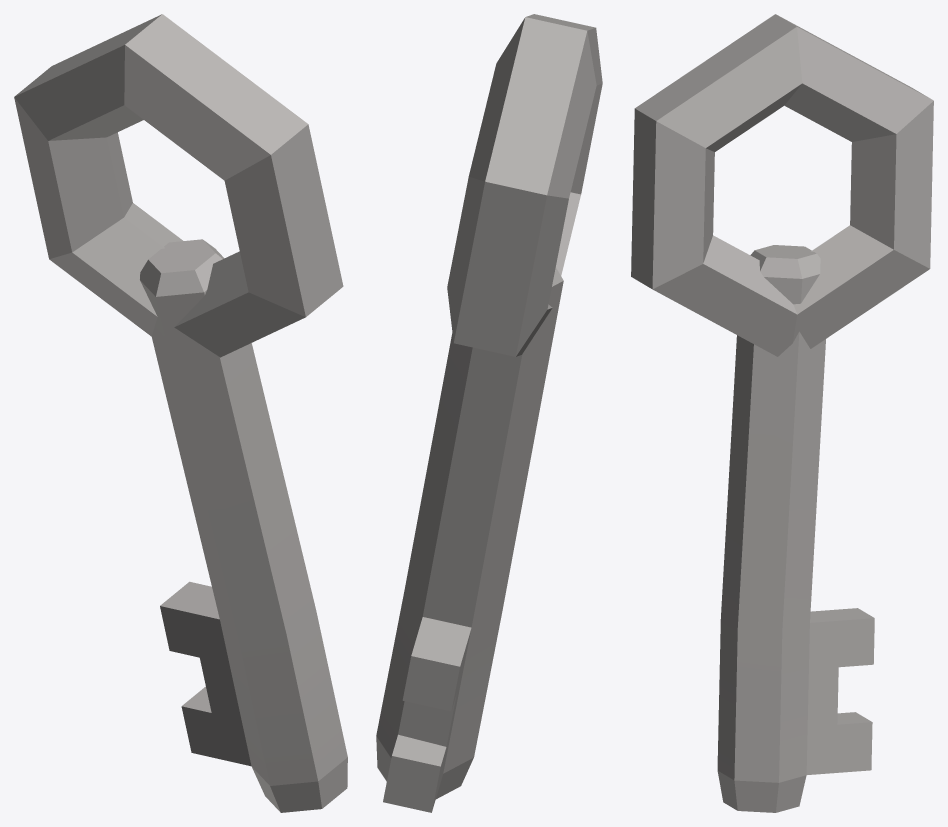
Rendered from SM_Prop_Key_03.obj.
The picture shows the model from 3 angles, left to right: view 1: azimuth 30°, elevation 25°; view 2: azimuth 150°, elevation 25°; view 3: azimuth 270°, elevation 25°; orthographic projection. The views are drawn at different scales.
Visible parts, largest first — view 1: SM_Prop_Key_03_0; view 2: SM_Prop_Key_03_0; view 3: SM_Prop_Key_03_0.
Part boxes in pixels (<box>): SM_Prop_Key_03_0: <box>14,14,347,812</box>; SM_Prop_Key_03_0: <box>376,14,602,812</box>; SM_Prop_Key_03_0: <box>631,14,933,812</box>.
Size of the model in its own units: 0.0519 by 0.1639 by 0.0618.
Materials: 1 (1 with a texture image).
